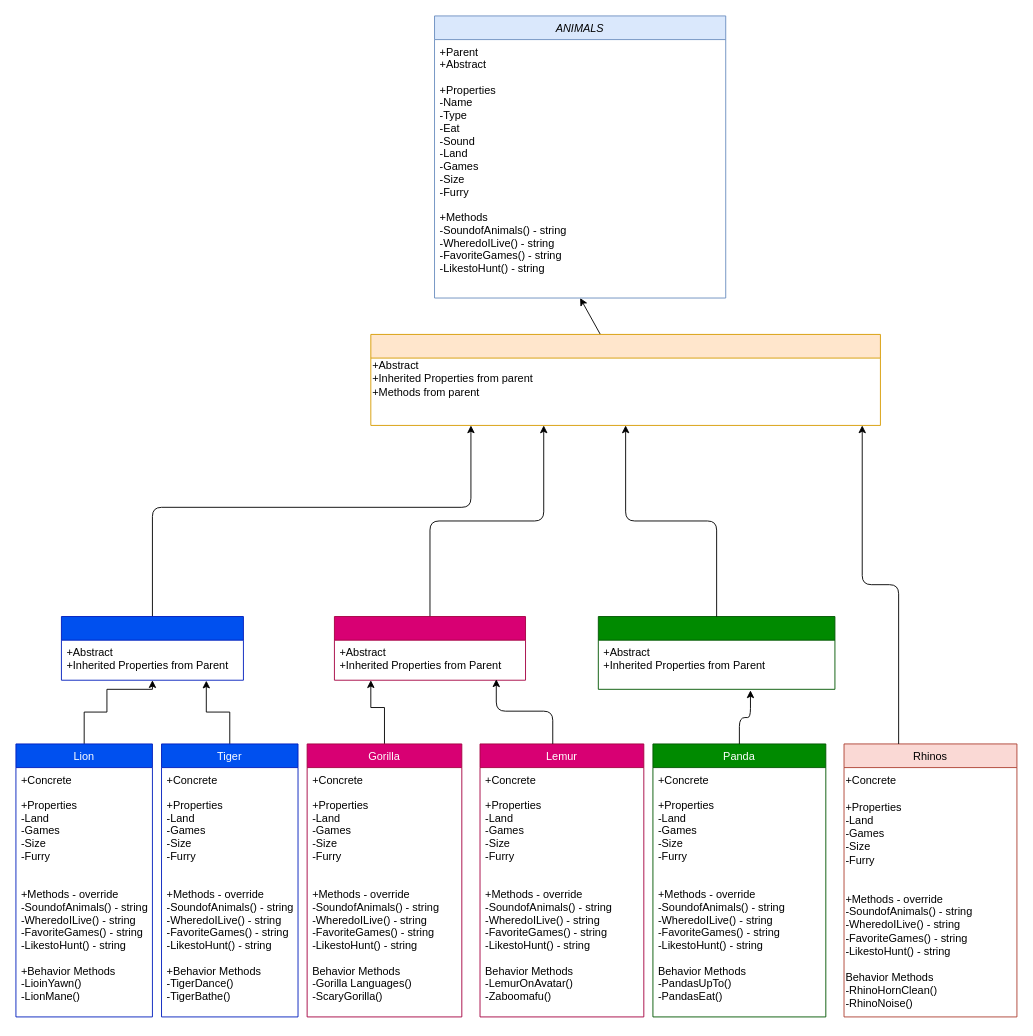
Image size: 1033x1036. Some labels were removed from this diagram. Each missing label, with the box of its shape:
Bears: (597, 616, 835, 689)
Feline: (61, 616, 243, 680)
Mammals: (370, 334, 880, 425)
Primate: (334, 616, 526, 680)
